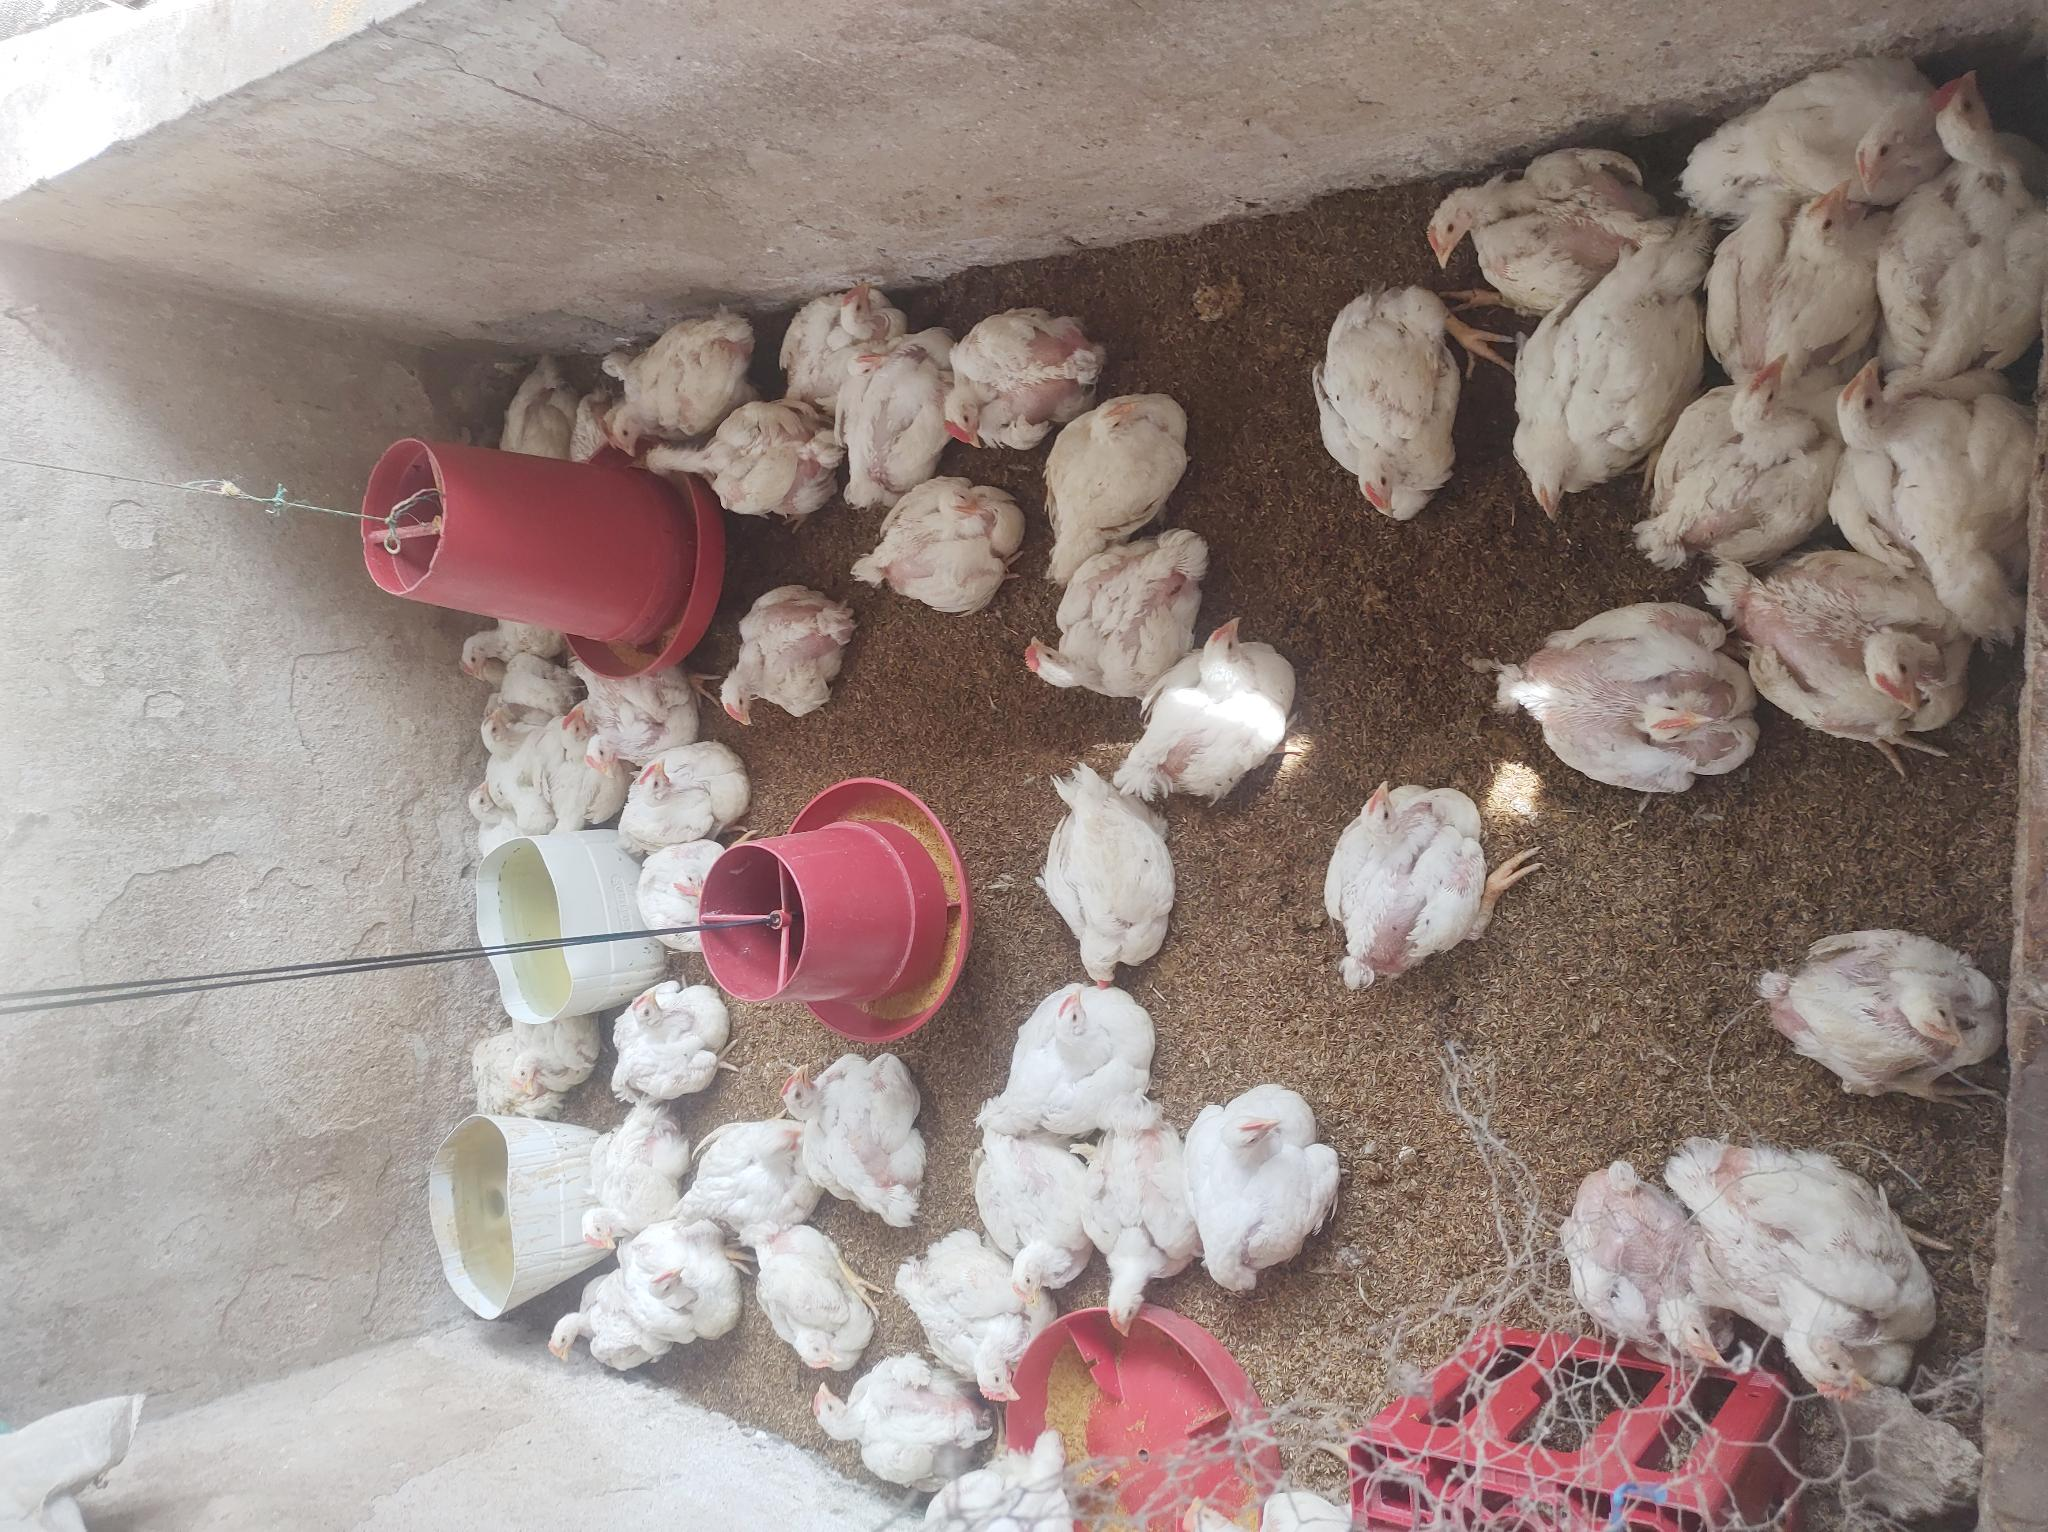Pollos: (1663, 1125, 1935, 1398), (1816, 351, 2029, 653), (1507, 225, 1705, 529), (1882, 60, 2048, 375), (1507, 595, 1763, 797), (1672, 53, 1951, 229), (1704, 175, 1902, 412), (1718, 549, 1968, 735), (1630, 344, 1829, 570), (1419, 140, 1675, 315), (1758, 925, 2009, 1098), (1559, 1147, 1742, 1373), (1308, 275, 1462, 533), (1107, 615, 1302, 805), (1319, 779, 1483, 990), (1187, 1085, 1342, 1300), (1022, 541, 1208, 705), (1044, 389, 1195, 583), (1038, 790, 1178, 990), (899, 1233, 1054, 1406), (1081, 1109, 1197, 1337), (940, 306, 1107, 459), (808, 1349, 981, 1495), (775, 1051, 923, 1221), (968, 1109, 1092, 1307), (851, 475, 1023, 616), (832, 335, 972, 500), (648, 396, 837, 518), (1001, 982, 1157, 1126), (598, 314, 758, 452), (714, 579, 849, 727), (756, 1223, 891, 1369), (661, 1117, 816, 1241), (582, 1094, 687, 1252), (927, 1427, 1073, 1532), (772, 285, 899, 401), (616, 739, 753, 845), (576, 660, 697, 779), (608, 983, 727, 1101), (615, 1220, 748, 1324), (629, 834, 730, 957), (536, 694, 624, 830), (549, 1262, 642, 1386), (507, 999, 602, 1098), (491, 352, 578, 459), (449, 615, 573, 689), (476, 703, 541, 806), (459, 779, 520, 850)
